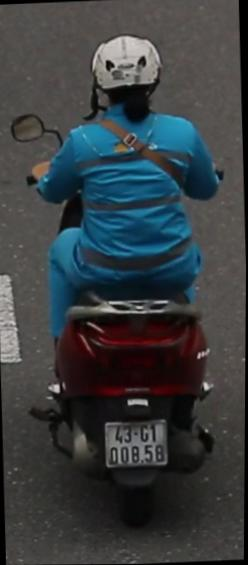LP: (100, 411, 174, 473)
helmet: (84, 27, 165, 123)
